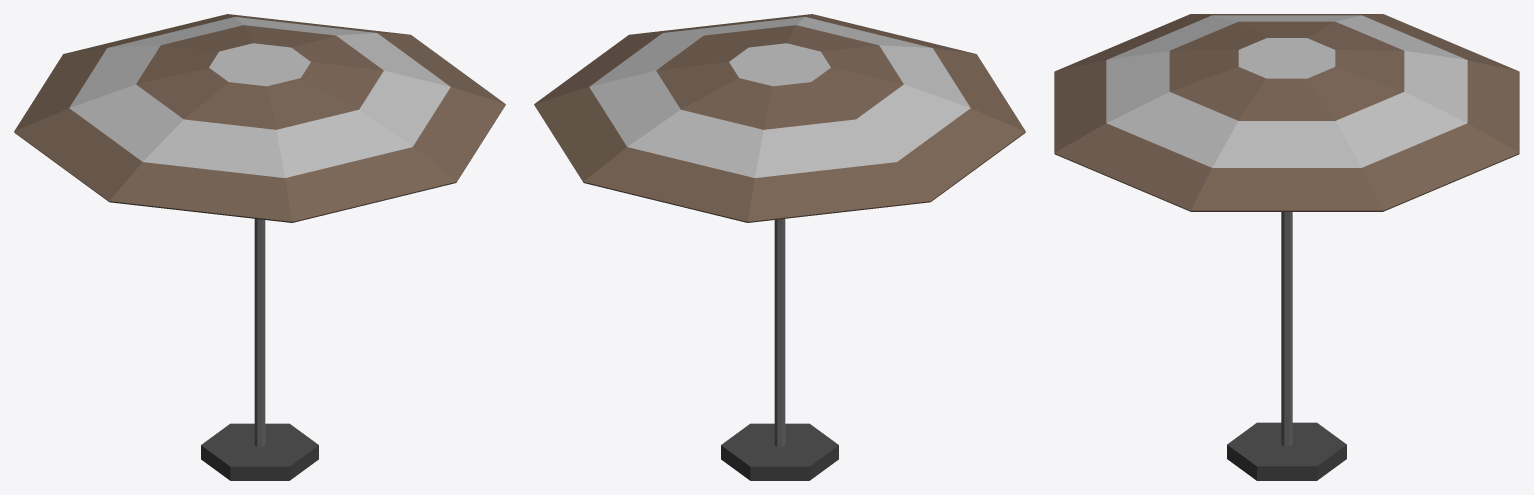
File: Umbrella_04.fbx
3 renders of one model, left to right at view 1: azimuth 30°, elevation 25°; view 2: azimuth 150°, elevation 25°; view 3: azimuth 270°, elevation 25°, orthographic.
Parts seen in each view (by area): view 1: Umbrella_04; view 2: Umbrella_04; view 3: Umbrella_04.
Part boxes in pixels (<box>): Umbrella_04: <box>14,14,505,480</box>; Umbrella_04: <box>534,14,1025,480</box>; Umbrella_04: <box>1054,14,1519,480</box>.
Bounding box in the file's own units: 277 × 263 × 277.
